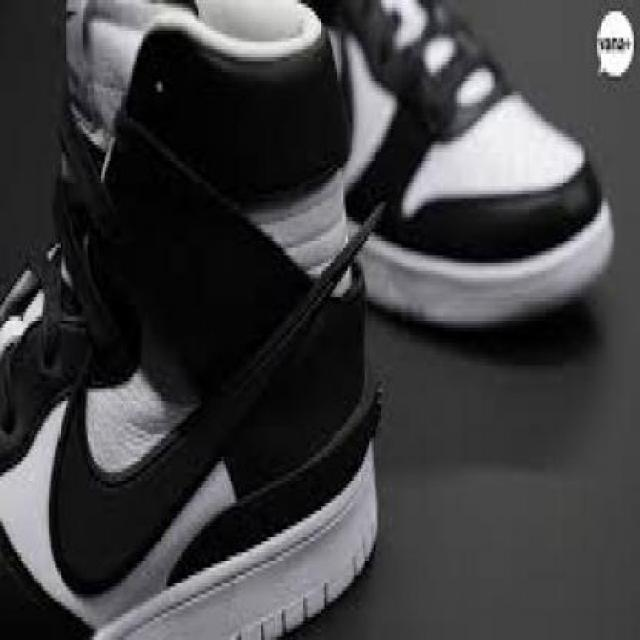Nike: (46, 191, 397, 599)
